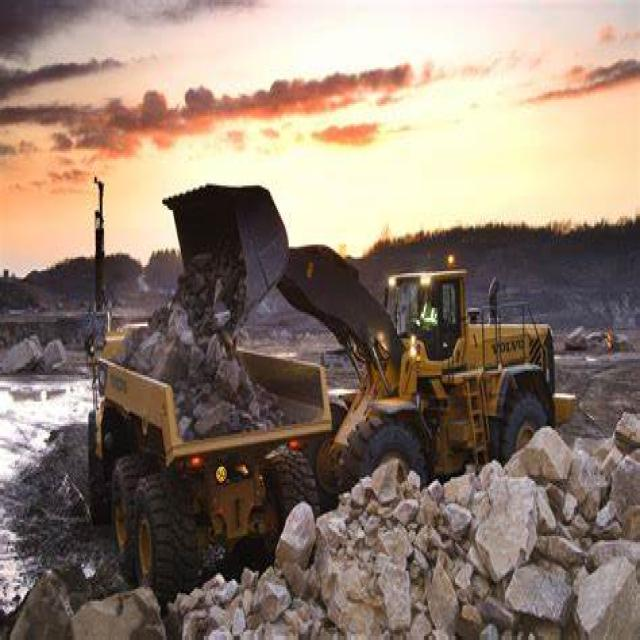buldozerpayloadergrader: (170, 167, 581, 514)
dump_truck: (63, 324, 343, 595)
